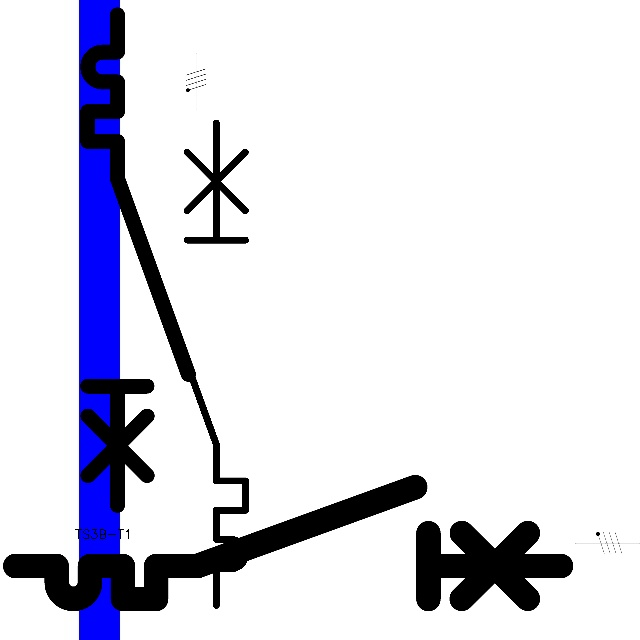interruptor_termomagnetico: (1, 473, 575, 613), (75, 2, 201, 518), (134, 110, 258, 618)
